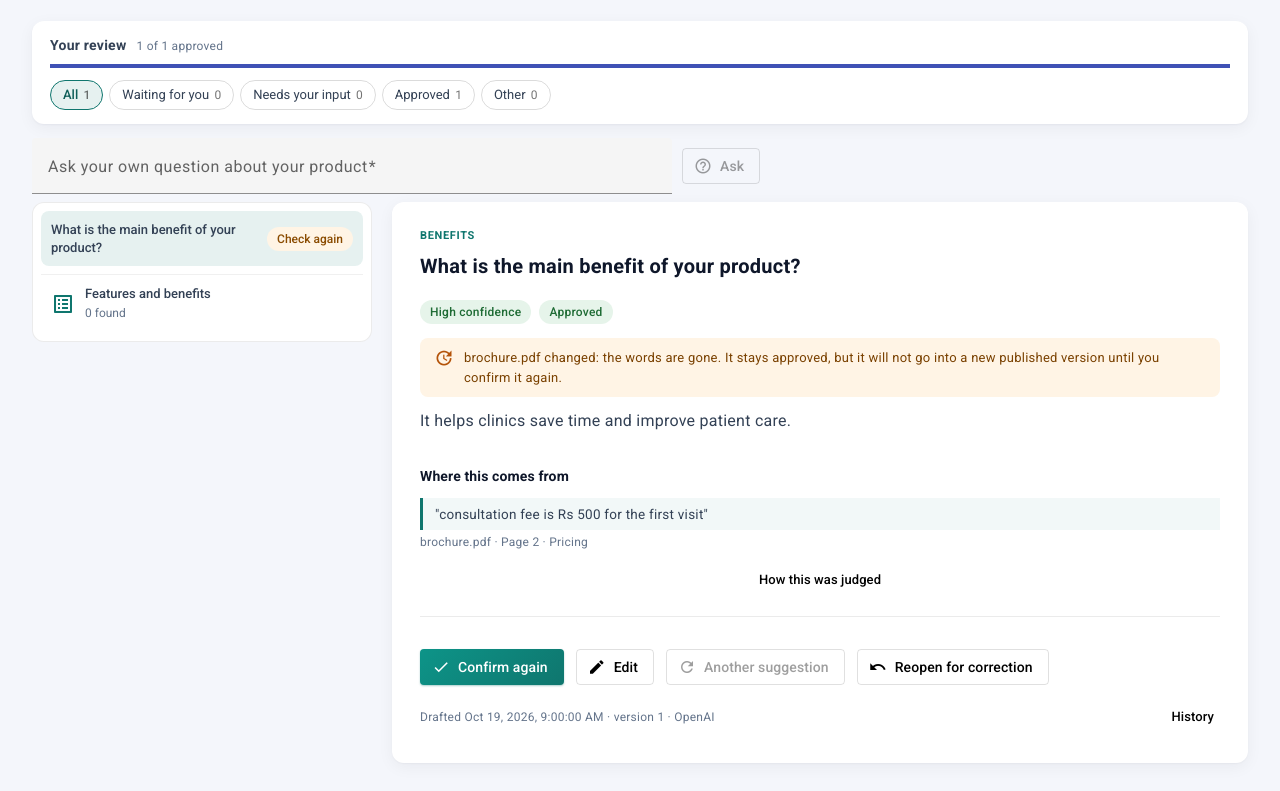
ProductAnswersComponent › marks an approved answer whose source changed as needing another look, and confirming it again clears that
The image size is (1280, 791).
(page scrolled)
Click the button with test id "approve" at (492, 667), box [420,649,564,685]
(page scrolled)
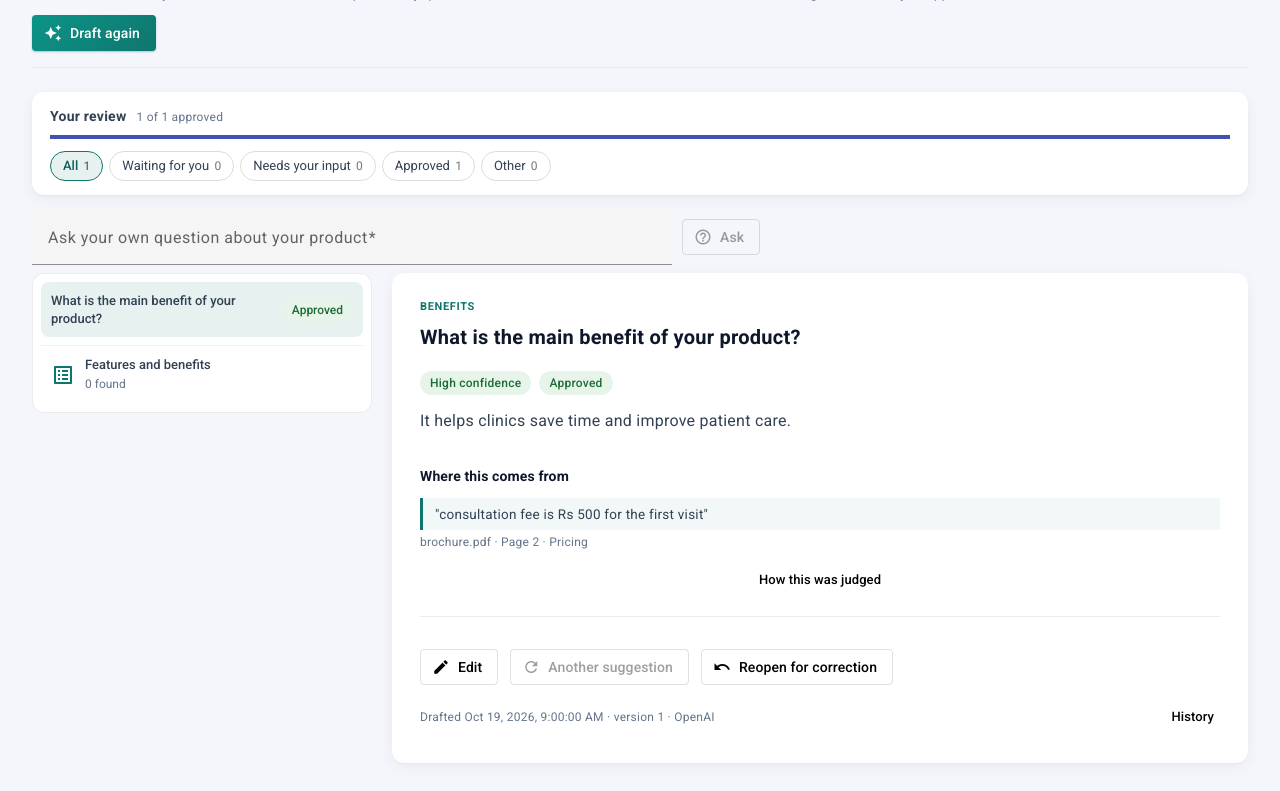
Expected: the element with test id "recheck" is gone
Expected: the text with test id "recheck-chip" is gone
